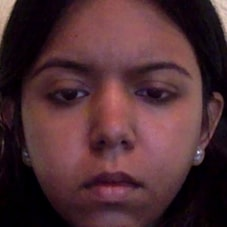awake: (32, 50, 196, 209)
